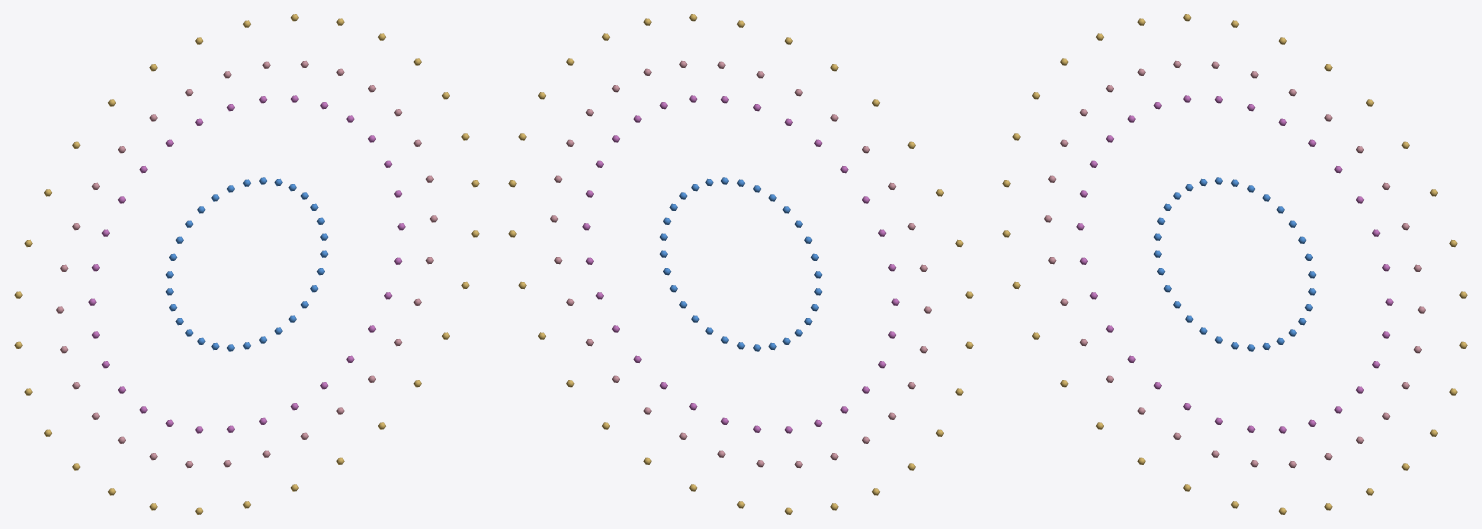
The model's file is example.gltf.
The picture shows the model from 3 angles, left to right: view 1: azimuth 30°, elevation 25°; view 2: azimuth 150°, elevation 25°; view 3: azimuth 330°, elevation 25°; orthographic projection.
Visible parts, largest first — view 1: vertices; view 2: vertices; view 3: vertices.
Part boxes in pixels (box(x1,y1,x2,y2)): vertices: box(14, 14, 479, 514); vertices: box(508, 14, 973, 514); vertices: box(1002, 14, 1467, 514).
Size of the model in its own units: 2.02 by 2.03 by 0.0272.
